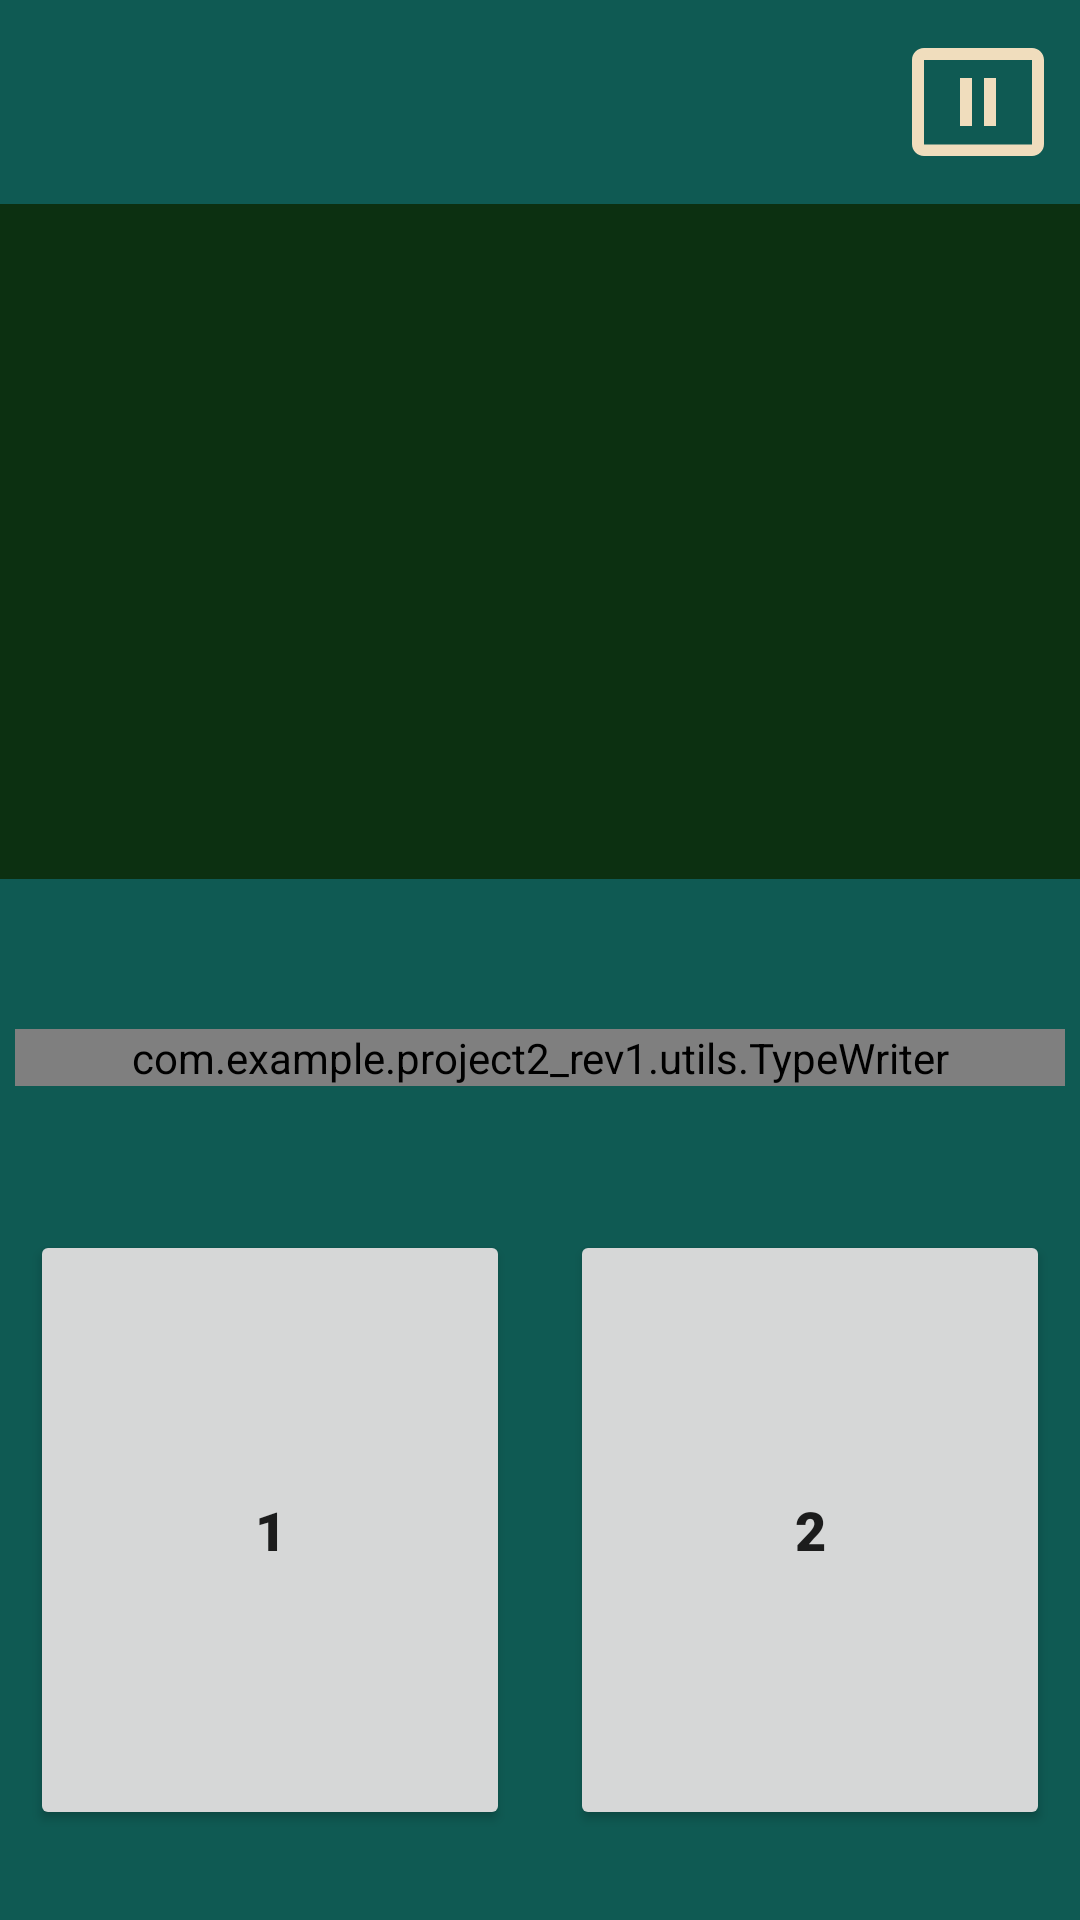

Where icons sit on this 1080*1920 app screen, as {"left": x1, "top": y1, "right": x2, "bottom": y2}:
pause: {"left": 912, "top": 48, "right": 1044, "bottom": 156}
